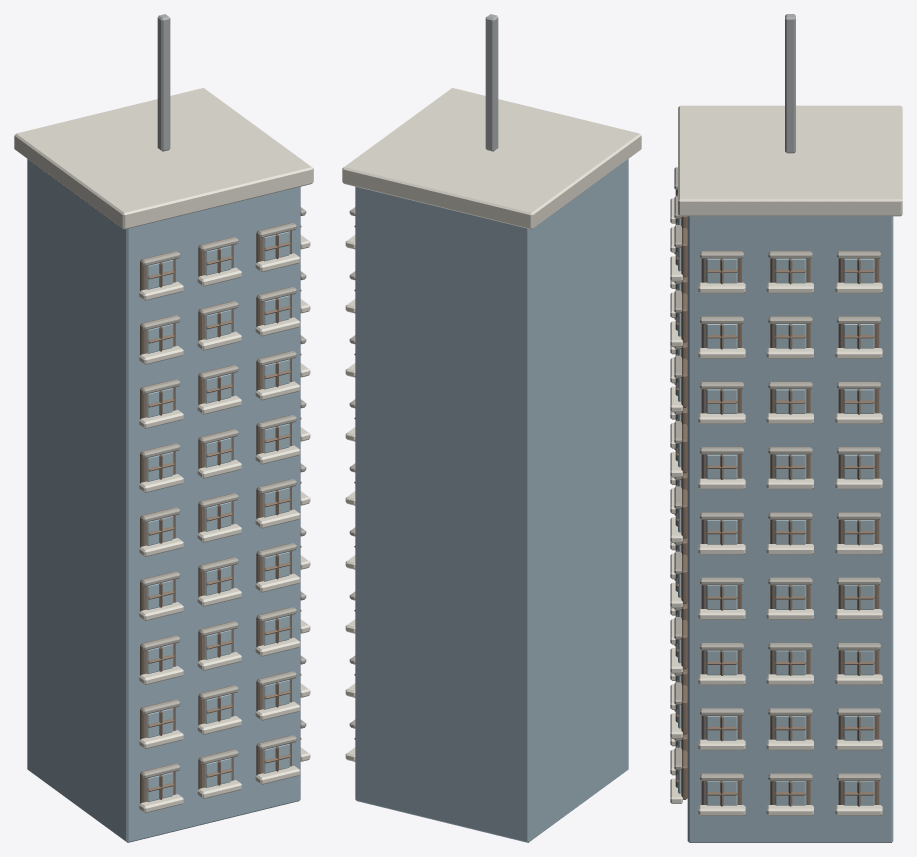
Rendered from tower.glb.
The picture shows the model from 3 angles, left to right: view 1: azimuth 30°, elevation 25°; view 2: azimuth 150°, elevation 25°; view 3: azimuth 270°, elevation 25°; orthographic projection.
Parts seen in each view (by area): view 1: wall, cap, spire, wglass.012, wglass.009, wglass.015, wglass.003, wglass.024, wglass, wglass.006, wglass.018, wglass.021; view 2: wall, cap, spire; view 3: wall, cap, spire, wglass.051, wglass.037, wglass.042, wglass.044, wglass.033, wglass.046, wglass.053, wglass.052, wglass.034 (+45 smaller).
Boxes of the visible parts, x1,y1,x2,y2 form: wall: (27,159,300,842); cap: (14,88,313,229); spire: (157,14,170,151); wglass.012: (146,516,173,545); wglass.009: (146,580,173,609); wglass.015: (146,452,173,481); wglass.003: (146,708,173,737); wglass.024: (146,260,173,289); wglass: (146,772,173,801); wglass.006: (146,644,173,673); wglass.018: (146,388,173,417); wglass.021: (146,324,173,353); wall: (355,159,628,842); cap: (342,88,641,229); spire: (485,14,498,151); wall: (687,216,893,842); cap: (678,105,902,216); spire: (785,14,795,153); wglass.051: (706,258,737,283); wglass.037: (774,585,806,609); wglass.042: (706,454,737,479); wglass.044: (843,454,874,479); wglass.033: (706,650,737,675); wglass.046: (774,389,806,413); wglass.053: (843,258,874,283); wglass.052: (774,258,806,283); wglass.034: (774,650,806,675).
Size of the model in its own units: 1.47 by 5.47 by 1.47.
